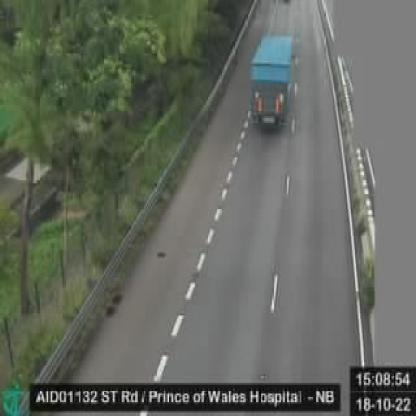Truck: (249, 35, 294, 134)
